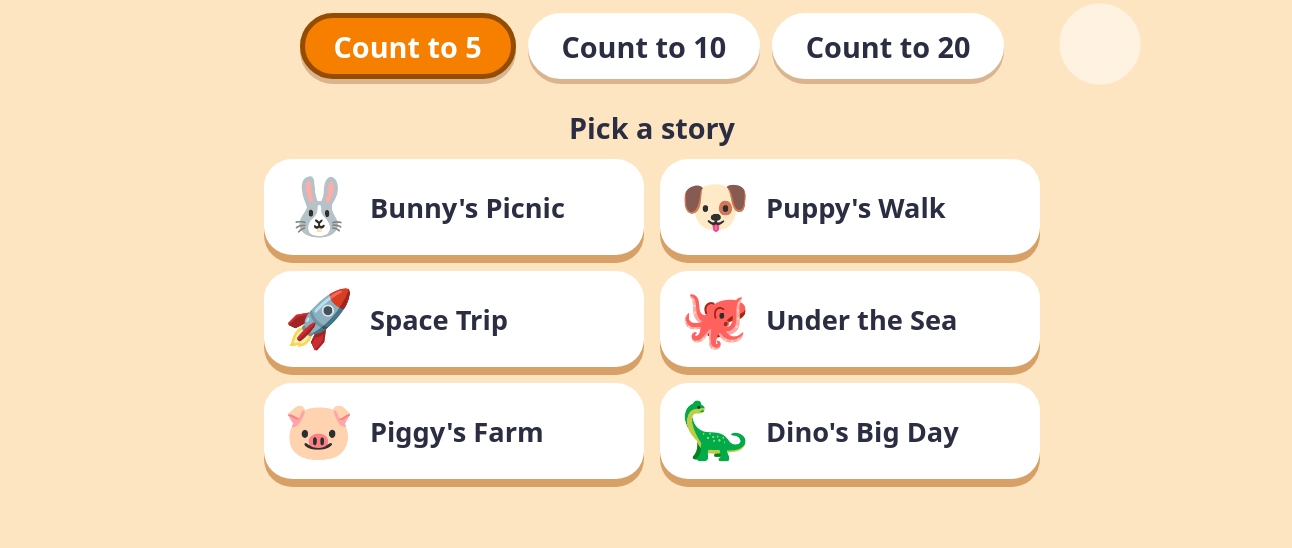
Test case: TopicScreen › starts the chosen story at the chosen level, and remembers the level
Click the radio button labelled "Count to 20".
click(888, 46)  # box [772,13,1004,79]
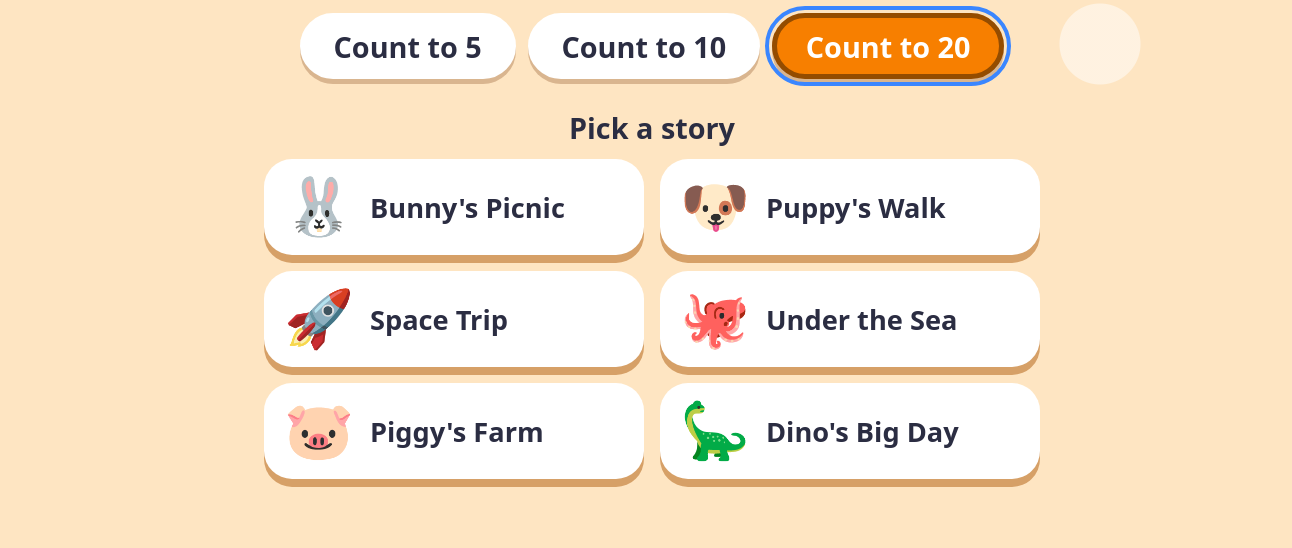
expect the radio button labelled "Count to 20" is checked: met, box [772,13,1004,79]
Click the link "🚀 Space Trip".
click(454, 319)  # box [264,271,644,367]
(page scrolled)
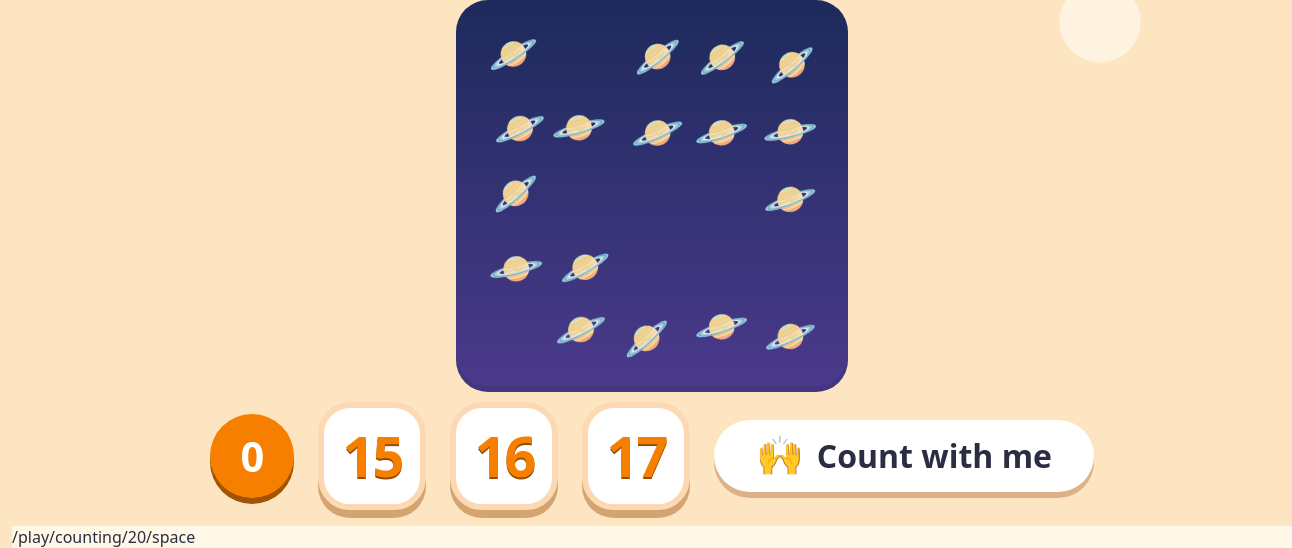
expect the text with test id "location" reads "/play/counting/20/space": met, box [12,526,195,547]
